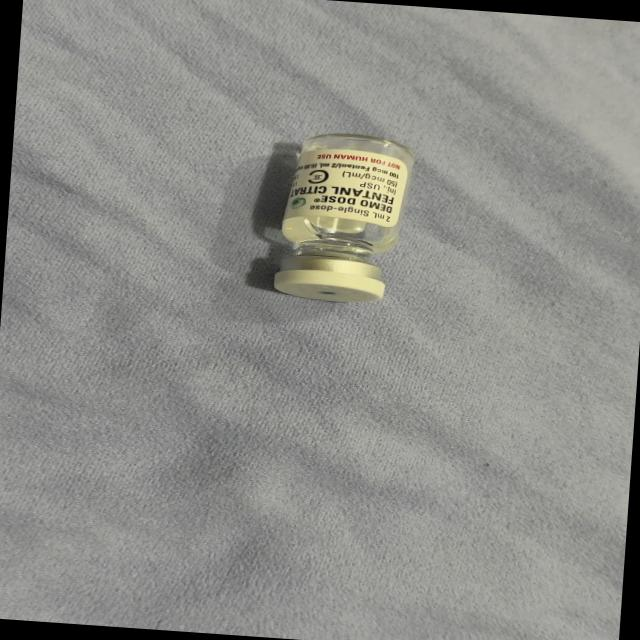fentanl_citrat: (270, 132, 412, 302)
